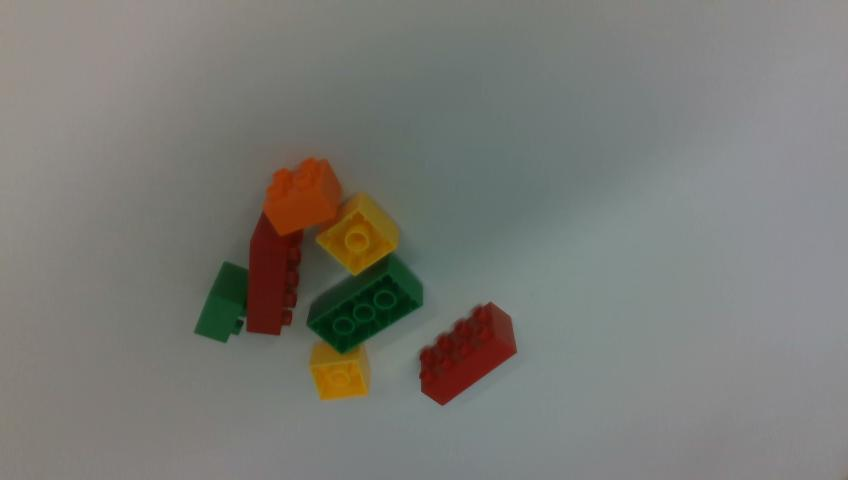2x2_green: (194, 262, 247, 342)
2x2_orange: (263, 158, 341, 235)
2x2_yellow: (315, 192, 398, 275), (309, 342, 370, 399)
4x2_green: (307, 252, 422, 357)
4x2_red: (420, 302, 516, 404), (246, 210, 303, 334)
